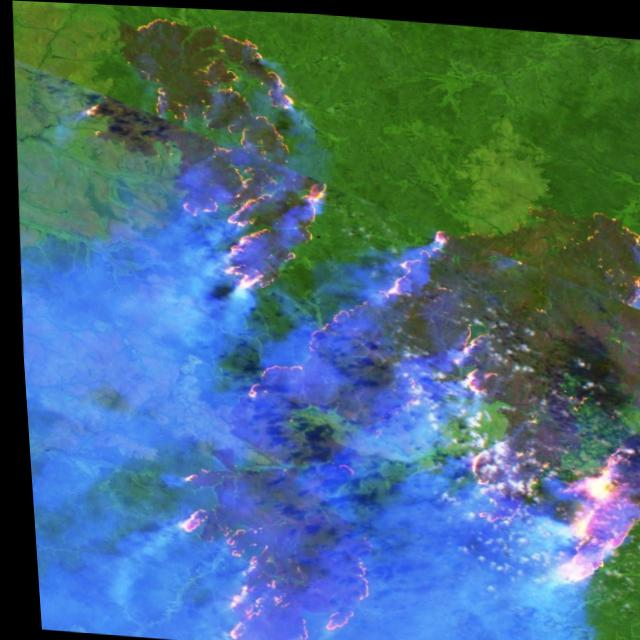fire: (40, 2, 640, 640)
